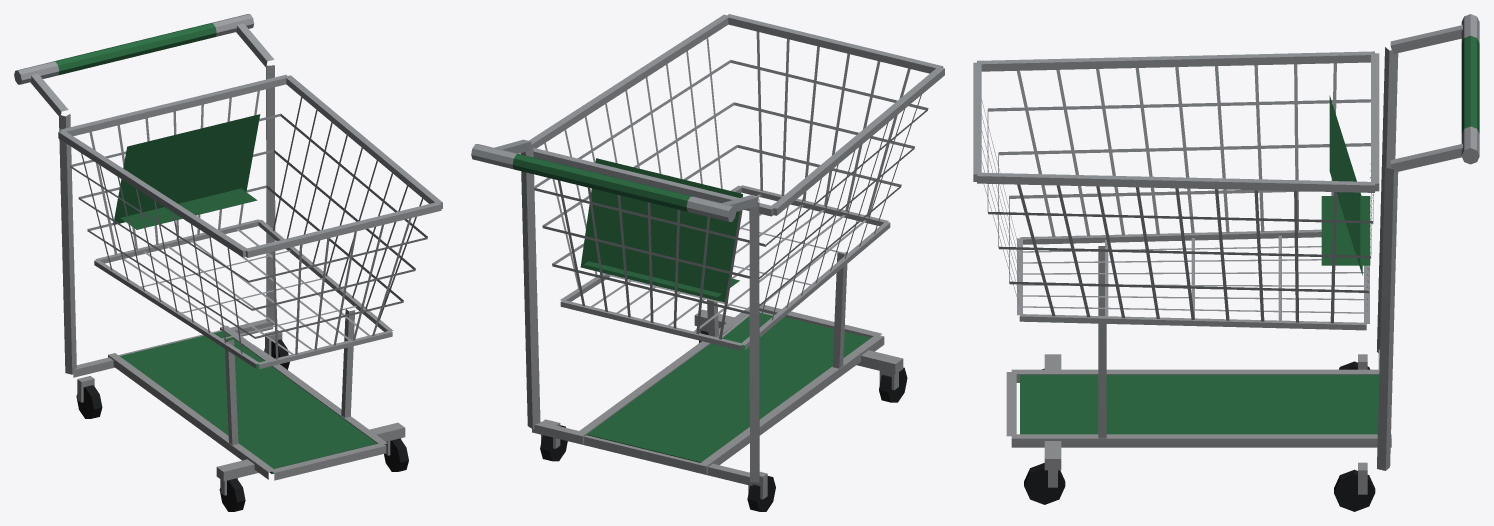
Rendered from shop.cart.green_tray.glb.
The picture shows the model from 3 angles, left to right: view 1: azimuth 30°, elevation 25°; view 2: azimuth 150°, elevation 25°; view 3: azimuth 270°, elevation 25°; orthographic projection. The views are drawn at different scales.
Visible parts, largest first — view 1: shop_cart_green_tray; view 2: shop_cart_green_tray; view 3: shop_cart_green_tray.
Boxes of the visible parts, left/top/right/bottom form: shop_cart_green_tray: left=14, top=14, right=442, bottom=511; shop_cart_green_tray: left=471, top=14, right=944, bottom=511; shop_cart_green_tray: left=973, top=14, right=1479, bottom=511.
Size of what is drawn, in the model's own units: 0.768 by 1 by 1.23.
